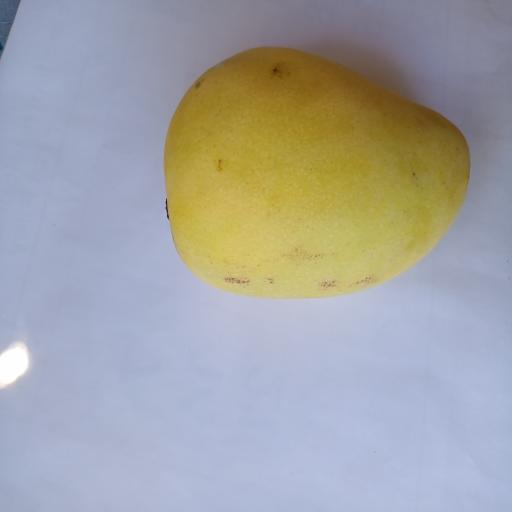mango-ripe: (141, 34, 478, 317)
